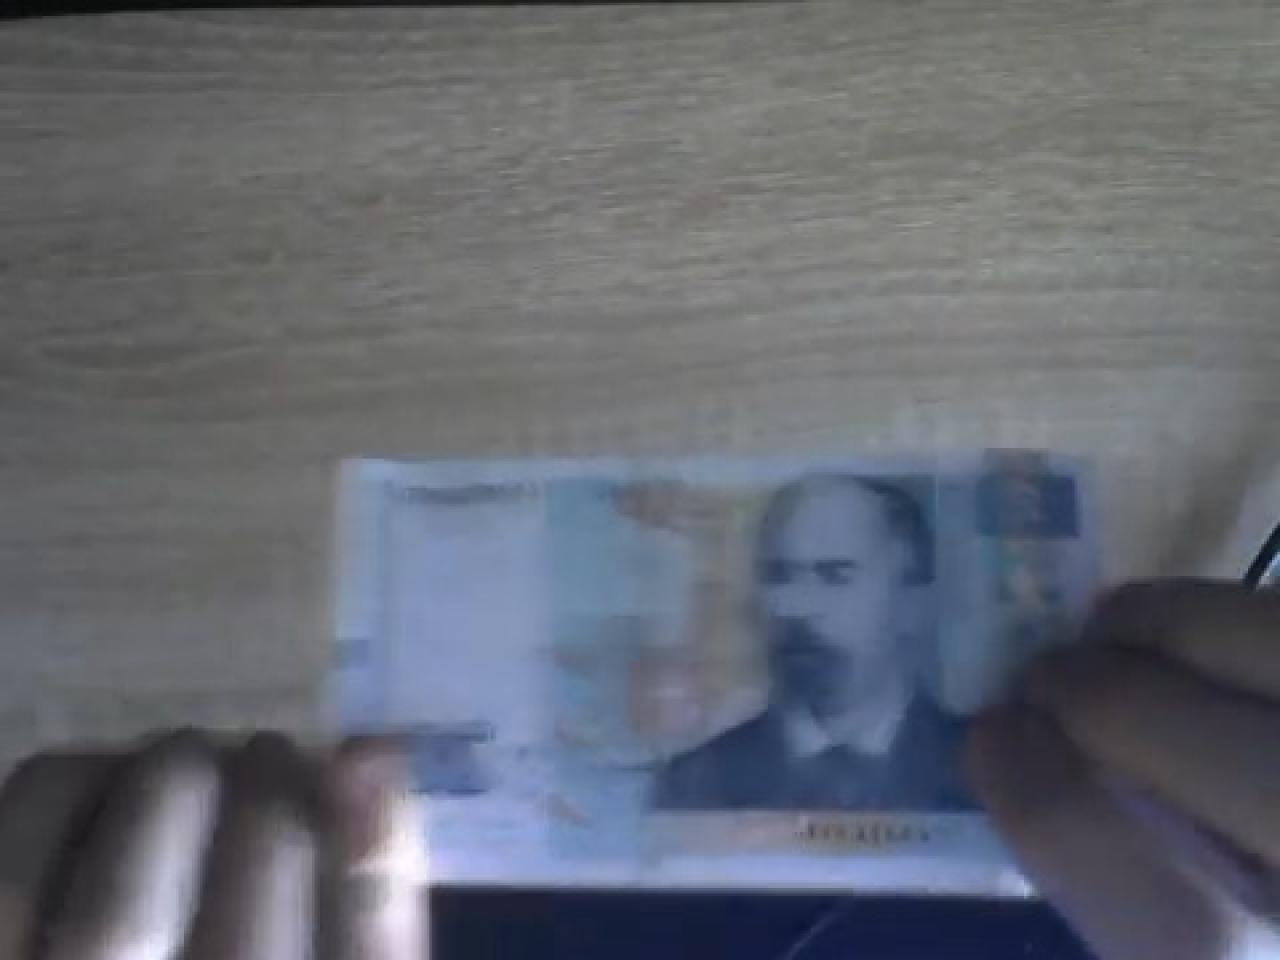20leva: (334, 448, 1096, 864)
